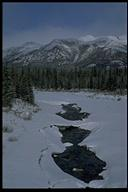mountain: (4, 30, 125, 60)
sky: (7, 4, 123, 29)
snow: (95, 101, 126, 151)
tree: (32, 68, 126, 89)
